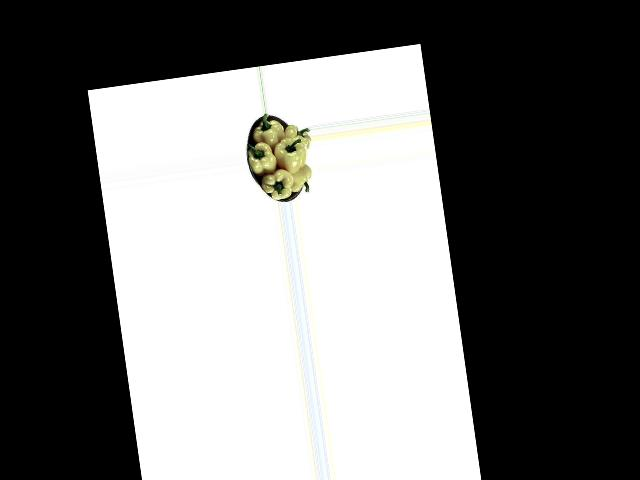bell_pepper: (280, 119, 311, 152)
